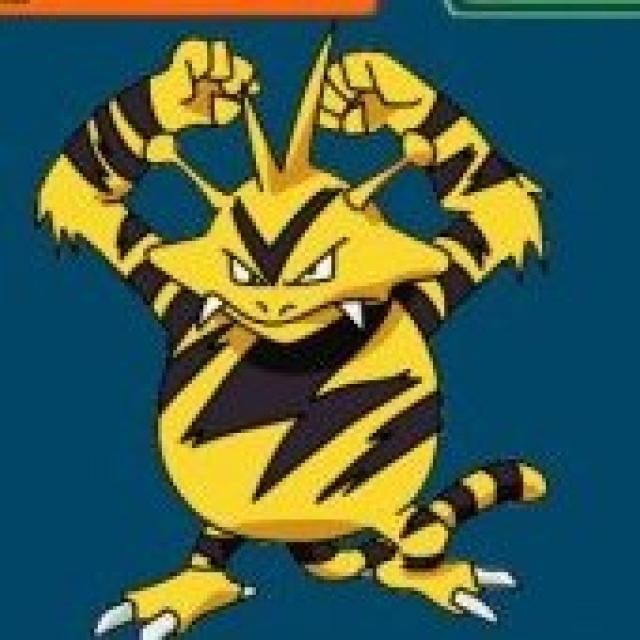Electabuzz: (94, 43, 494, 617)
